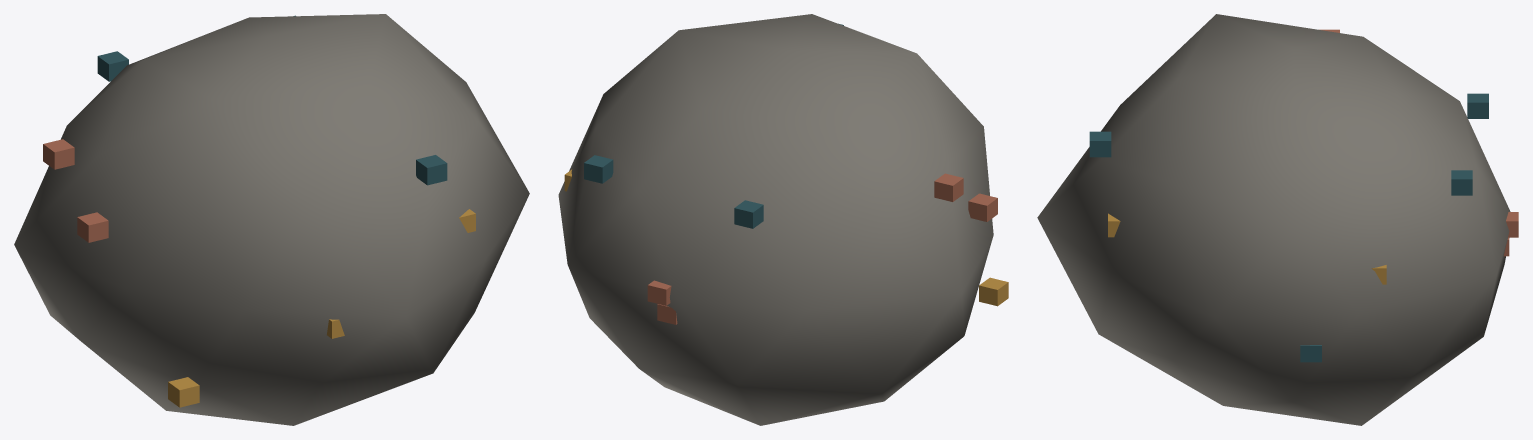
File: boulder-CjjnAFdo.glb
3 renders of one model, left to right at view 1: azimuth 30°, elevation 25°; view 2: azimuth 150°, elevation 25°; view 3: azimuth 270°, elevation 25°, orthographic. The views are drawn at different scales.
Visible parts, largest first — view 1: boulder; view 2: boulder; view 3: boulder.
Boxes of the visible parts, x1,y1,x2,y2 form: boulder: (14,14,529,425); boulder: (558,14,1008,425); boulder: (1037,14,1518,425).
Size of the model in its own units: 2.64 by 2.16 by 2.68.
